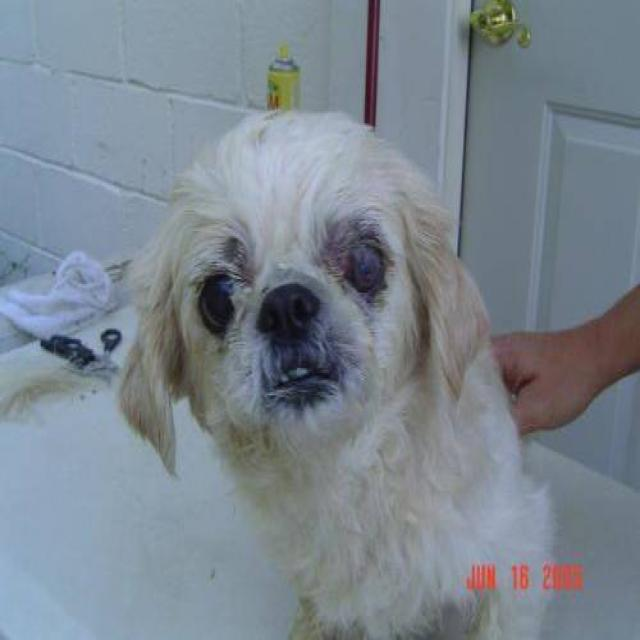dog: (116, 106, 560, 638)
